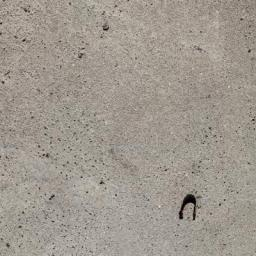FOD: (178, 192, 200, 227)
